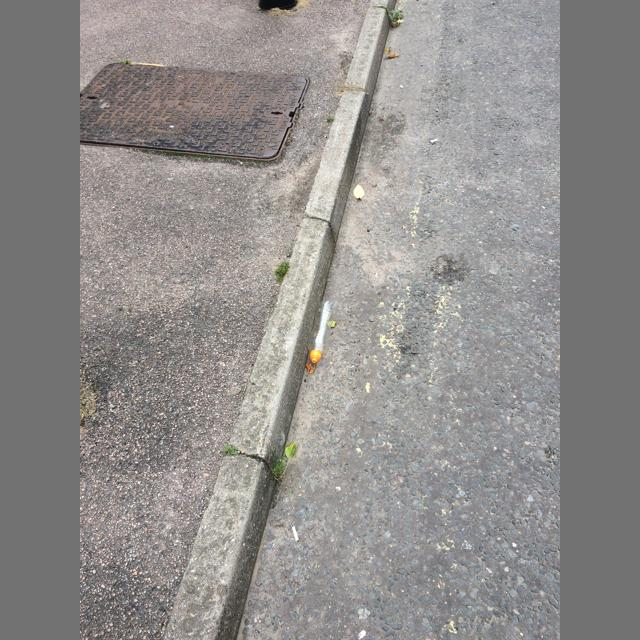litter: (308, 300, 337, 363), (430, 139, 438, 143)
